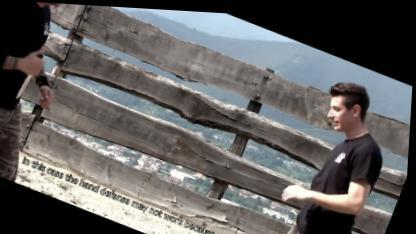knife: (12, 45, 50, 104)
